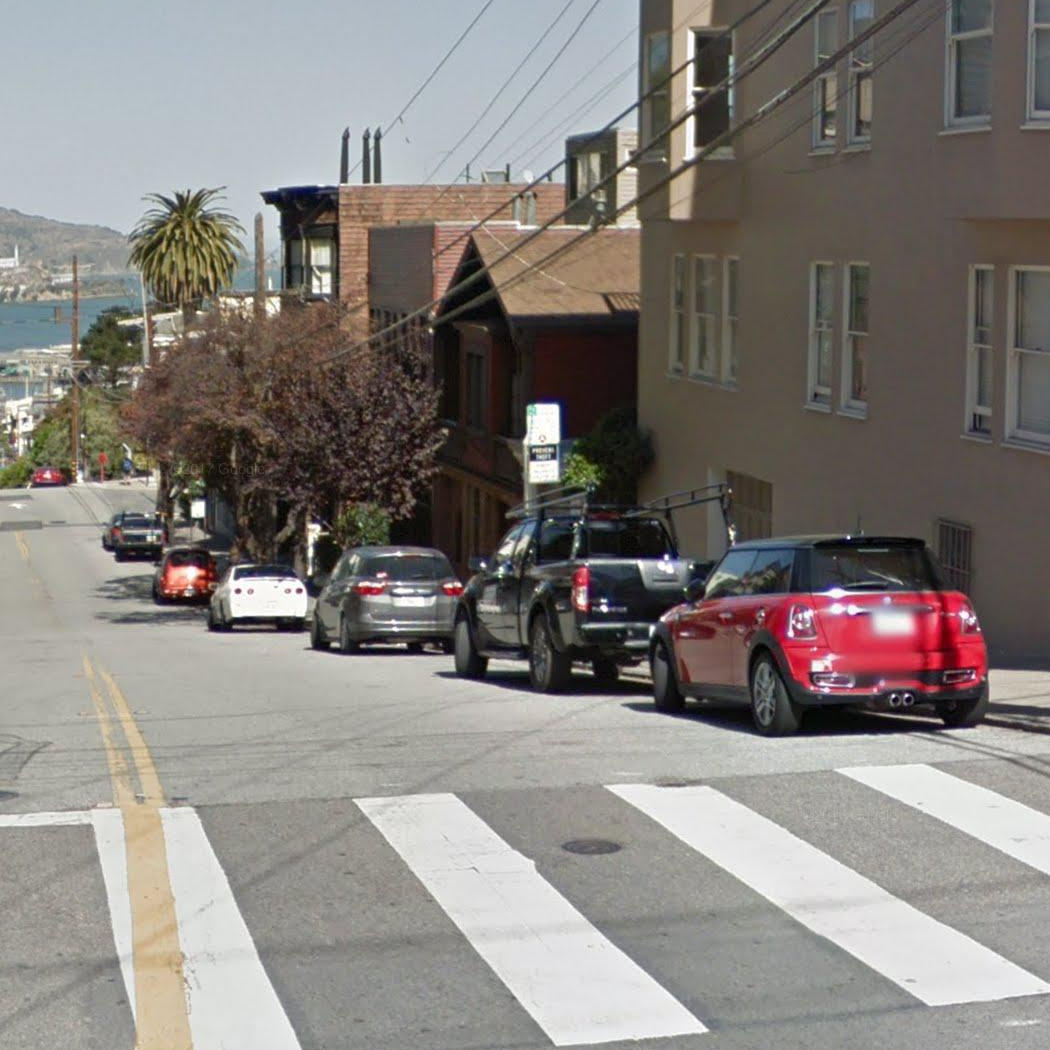2 Hour Parking: (526, 403, 560, 443)
